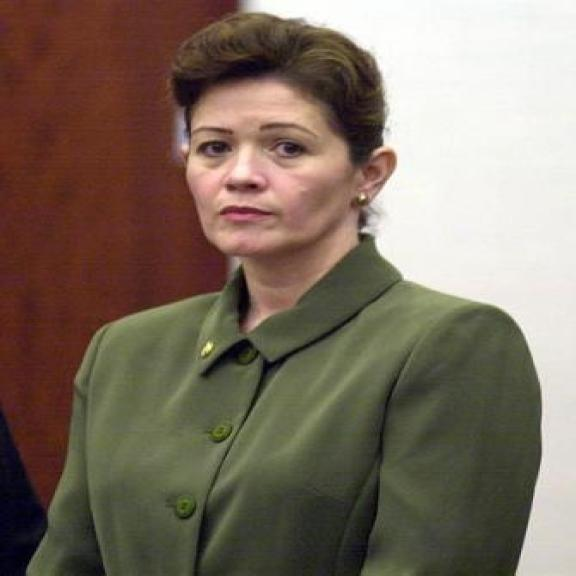face: (179, 68, 406, 262)
